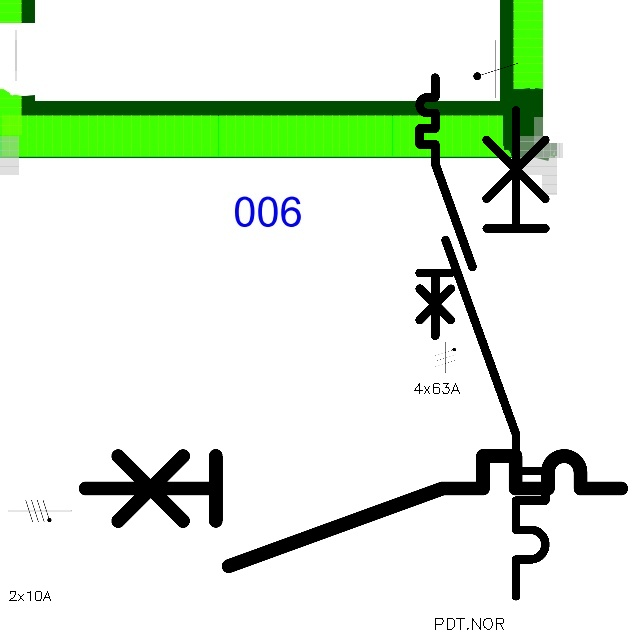interruptor_termomagnetico: (71, 442, 635, 580), (433, 97, 558, 608), (413, 71, 479, 342)
